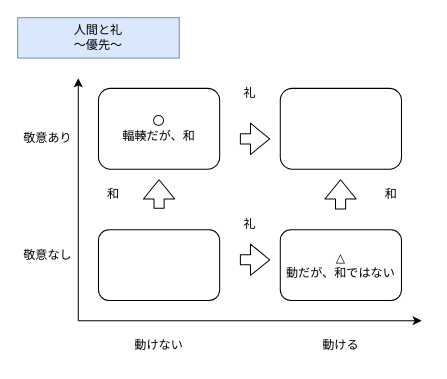
The diagram is 447 pixels wide and 379 high, and some of its shapes have lost their labels. The shapes that lost their labels are listed below. From the top down, each one's box as (x1, y1, x2, y2) in pixels, then its label:
(279, 87, 401, 169): ◎ 善い和
(97, 229, 220, 300): × 輻輳で、不和
